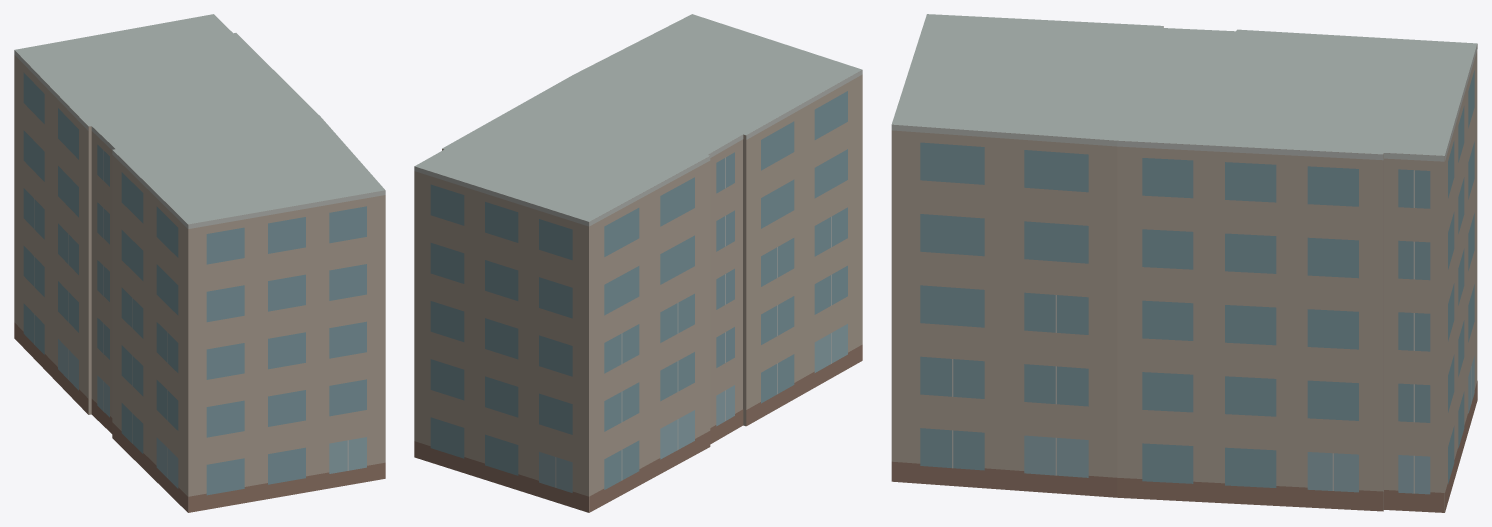
Rendered from survey-upis-32812994.glb.
3 views of the same model, side by side, from view 1: azimuth 30°, elevation 25°; view 2: azimuth 150°, elevation 25°; view 3: azimuth 270°, elevation 25° (orthographic). The views are drawn at different scales.
Visible parts, largest first — view 1: survey-upis-32812994.tmp; view 2: survey-upis-32812994.tmp; view 3: survey-upis-32812994.tmp.
Part boxes in pixels (x1=…): survey-upis-32812994.tmp: x1=14, y1=14, x2=385, y2=512; survey-upis-32812994.tmp: x1=414, y1=14, x2=862, y2=512; survey-upis-32812994.tmp: x1=891, y1=14, x2=1477, y2=512.
Size of the model in its own units: 12.8 by 15 by 22.32.
